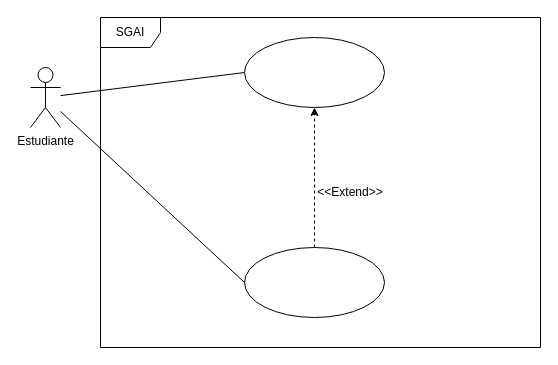
Some shapes in this 558 by 365 pixel diagram are drawn without their labels. The shapes that lost their labels are listed below. From the top down, each one's box as (x1, y1, x2, y2) in pixels, then its label:
(244, 36, 384, 108): Consultar semestres mínimos para titularse
(244, 246, 384, 318): Simular reprobación o postergación de una asignatura
